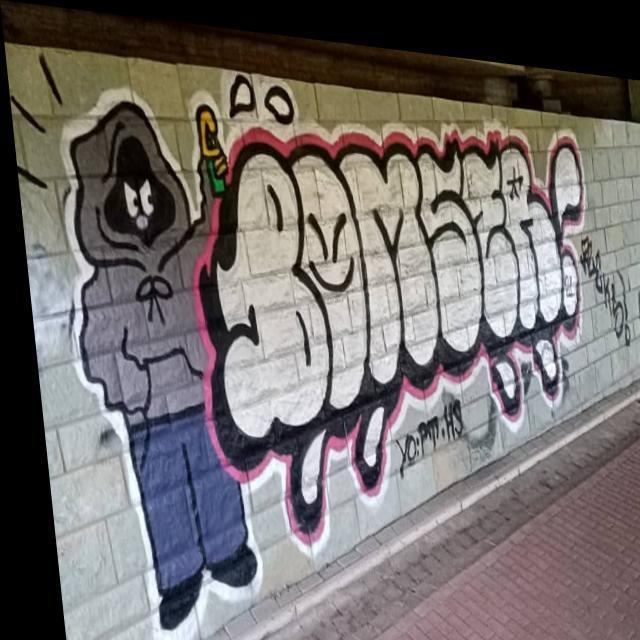-: (173, 76, 609, 498), (43, 94, 265, 620), (579, 218, 629, 332), (628, 241, 640, 321)
